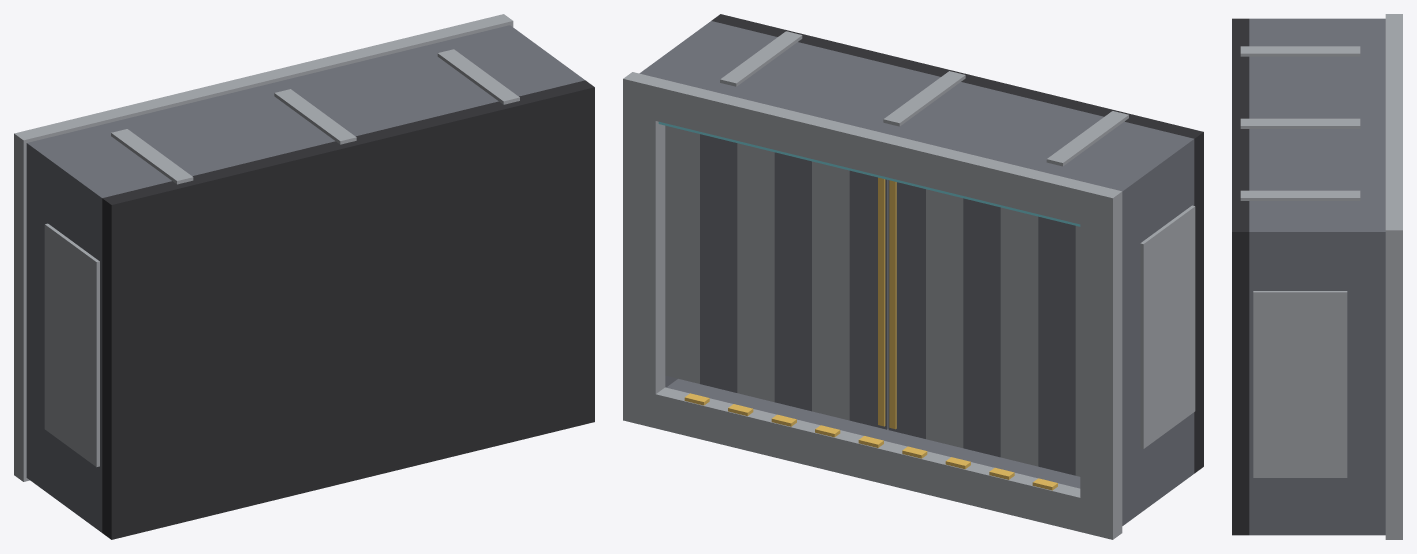
Rendered from intake_accordion_3x2x1.glb.
3 renders of one model, left to right at view 1: azimuth 30°, elevation 25°; view 2: azimuth 150°, elevation 25°; view 3: azimuth 270°, elevation 25°, orthographic. The views are drawn at different scales.
Parts seen in each view (by area): view 1: object 1; view 2: object 1, intake_slat_r5, intake_slat_l2, intake_slat_l3, intake_slat_l1, intake_slat_r2, intake_slat_r4, intake_slat_l4, intake_slat_l5, intake_slat_r3, intake_slat_r1, intake_slat_r0 (+1 smaller); view 3: object 1.
Boxes of the visible parts, x1,y1,x2,y2 form: object 1: [14, 14, 594, 539]; object 1: [623, 14, 1203, 539]; intake_slat_r5: [849, 170, 888, 429]; intake_slat_l2: [1000, 207, 1038, 466]; intake_slat_l3: [963, 198, 1000, 457]; intake_slat_l1: [1038, 216, 1075, 475]; intake_slat_r2: [737, 143, 774, 402]; intake_slat_r4: [812, 161, 849, 420]; intake_slat_l4: [926, 189, 963, 447]; intake_slat_l5: [888, 180, 925, 438]; intake_slat_r3: [774, 152, 811, 411]; intake_slat_r1: [700, 134, 737, 392]; intake_slat_r0: [665, 125, 699, 383]; object 1: [1232, 14, 1402, 539].
Size of the model in its own units: 3 by 2 by 1.
